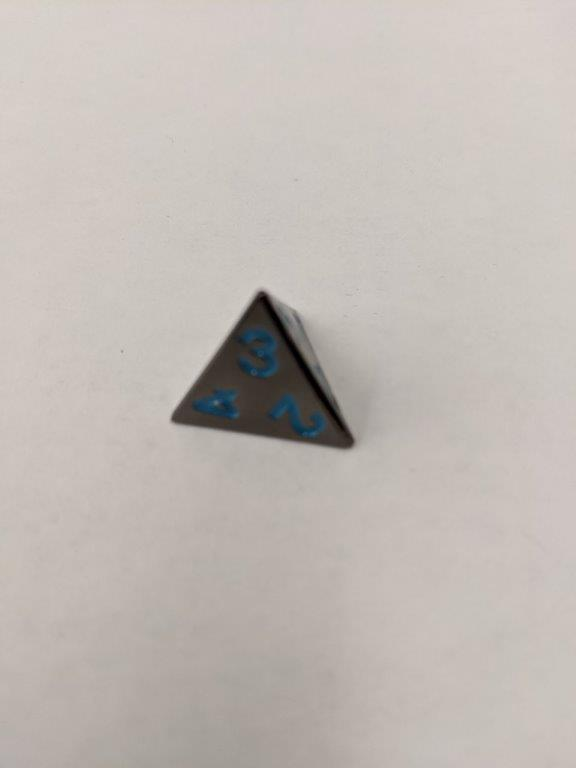d4-3: (166, 286, 359, 459)
